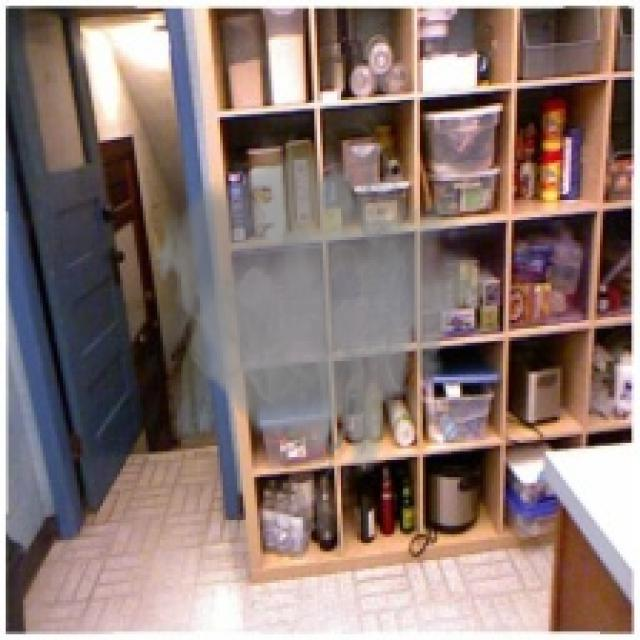smoke: (152, 103, 497, 488)
